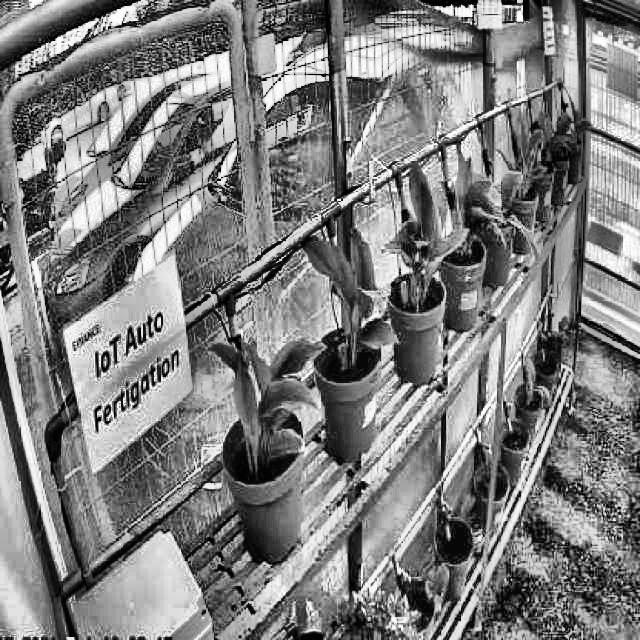plants: (212, 333, 326, 469), (300, 225, 396, 353), (387, 160, 461, 308), (448, 160, 498, 252), (516, 114, 547, 198)
